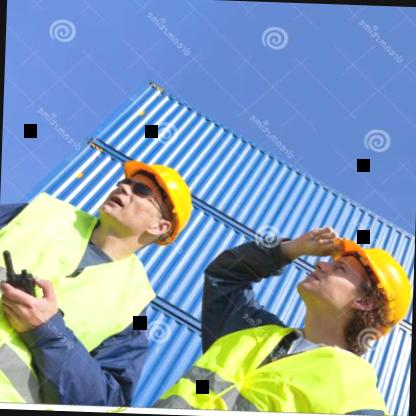helmet: (295, 240, 413, 338), (99, 160, 198, 246)
